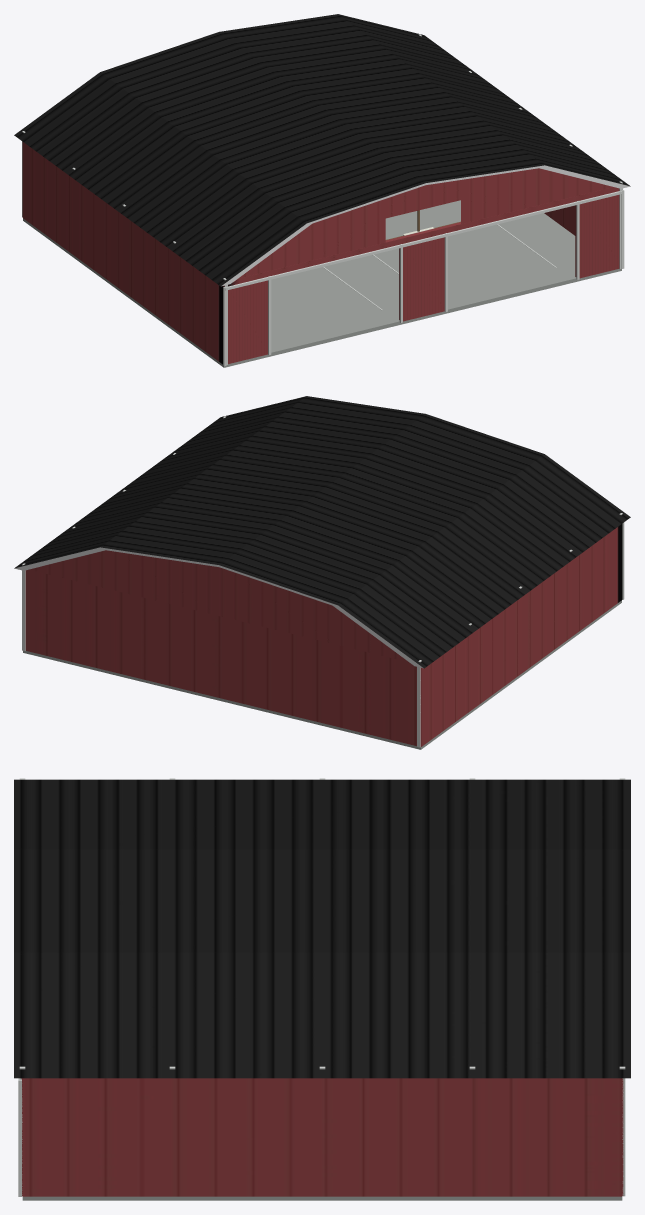
The model's file is maintenance-barn65.glb.
3 views of the same model, one above another, from view 1: azimuth 30°, elevation 25°; view 2: azimuth 150°, elevation 25°; view 3: azimuth 270°, elevation 25° (orthographic). The views are drawn at different scales.
Visible parts, largest first — view 1: roof; view 2: roof; view 3: roof.
Part boxes in pixels (<box>): roof: <box>14,14,630,367</box>; roof: <box>14,396,630,749</box>; roof: <box>14,778,630,1200</box>.
Bounding box in the file's own units: 16.5 × 5.31 × 14.4.
10 materials, 3 textured.
